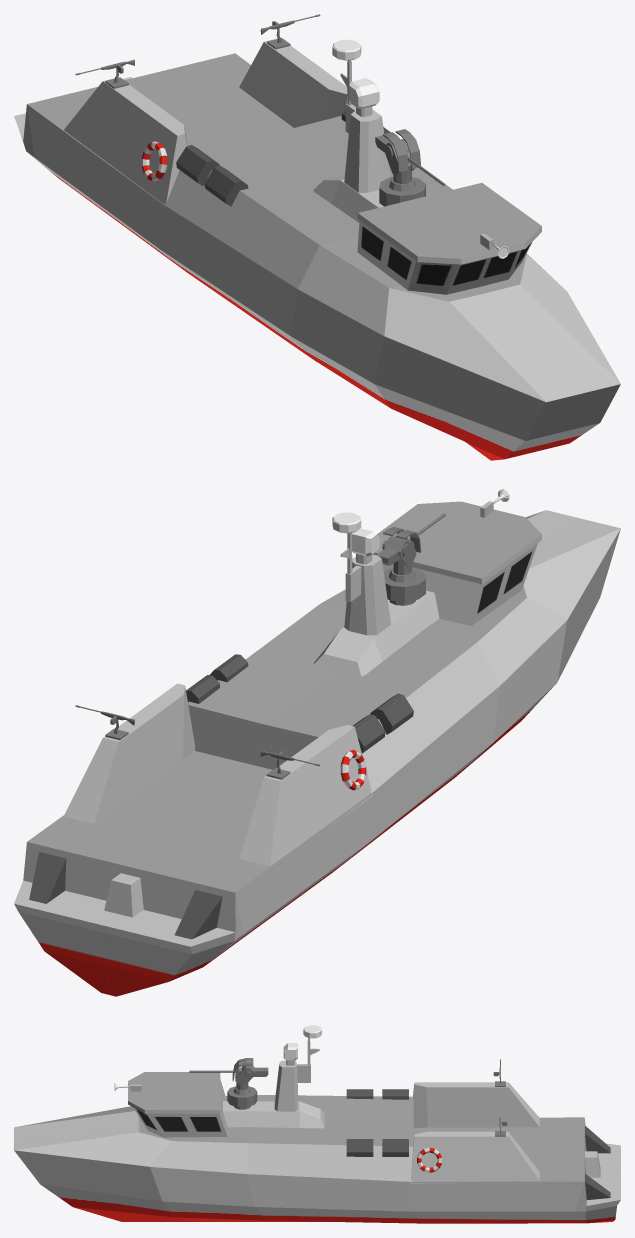
The picture shows the model from 3 angles, top to bottom: view 1: azimuth 30°, elevation 25°; view 2: azimuth 150°, elevation 25°; view 3: azimuth 270°, elevation 25°; orthographic projection. The views are drawn at different scales.
Visible parts, largest first — view 1: Cube, Cylinder.002, Cylinder, Torus.001; view 2: Cube, Cylinder, Cylinder.002, Torus.001; view 3: Cube, Cylinder, Cylinder.002, Torus, Cylinder.001.
Boxes of the visible parts, x1,y1,x2,y2 form: Cube: (14, 38, 620, 460); Cylinder.002: (375, 129, 445, 186); Cylinder: (379, 177, 425, 206); Torus.001: (141, 141, 167, 181); Cube: (14, 489, 620, 996); Cylinder: (384, 568, 425, 605); Cylinder.002: (376, 513, 445, 565); Torus.001: (340, 749, 366, 790); Cube: (14, 1025, 620, 1223); Cylinder: (227, 1086, 257, 1109); Cylinder.002: (189, 1058, 268, 1081); Torus: (417, 1147, 442, 1172); Cylinder.001: (235, 1065, 255, 1090).
Bounding box in the file's own units: 94.02 × 112 × 322.
4 materials, 1 textured.
